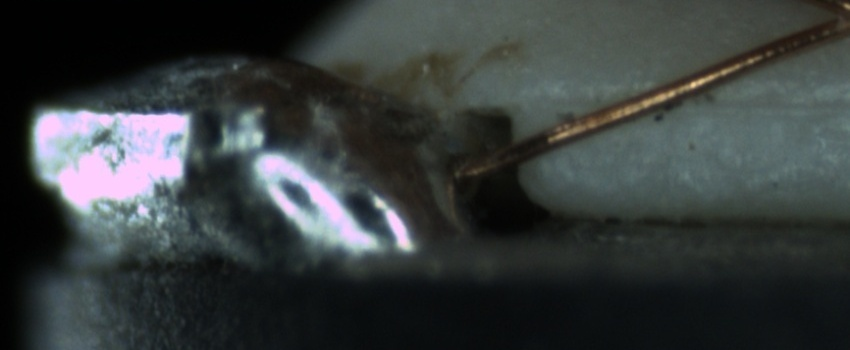CL: (805, 1, 848, 43)
DL: (571, 68, 847, 136)
